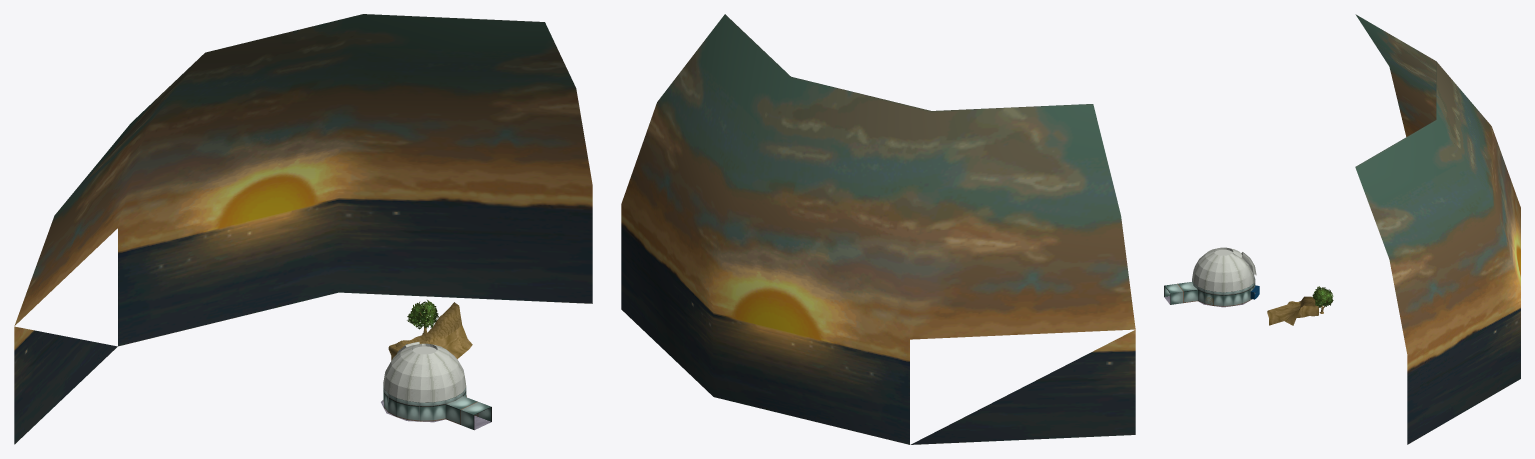
File: observatory_3.fbx
The picture shows the model from 3 angles, left to right: view 1: azimuth 30°, elevation 25°; view 2: azimuth 150°, elevation 25°; view 3: azimuth 270°, elevation 25°; orthographic projection. The views are drawn at different scales.
Visible parts, largest first — view 1: SpringfieldObservatory:Mesh; view 2: SpringfieldObservatory:Mesh; view 3: SpringfieldObservatory:Mesh.
Boxes of the visible parts, x1=… form: SpringfieldObservatory:Mesh: x1=14, y1=14, x2=592, y2=444; SpringfieldObservatory:Mesh: x1=621, y1=14, x2=1135, y2=444; SpringfieldObservatory:Mesh: x1=1164, y1=14, x2=1520, y2=444.
Bounding box in the file's own units: 160 × 86.35 × 113.
Materials: 27 (27 with a texture image).
